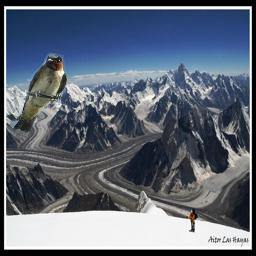Swallow: (11, 53, 67, 133)
